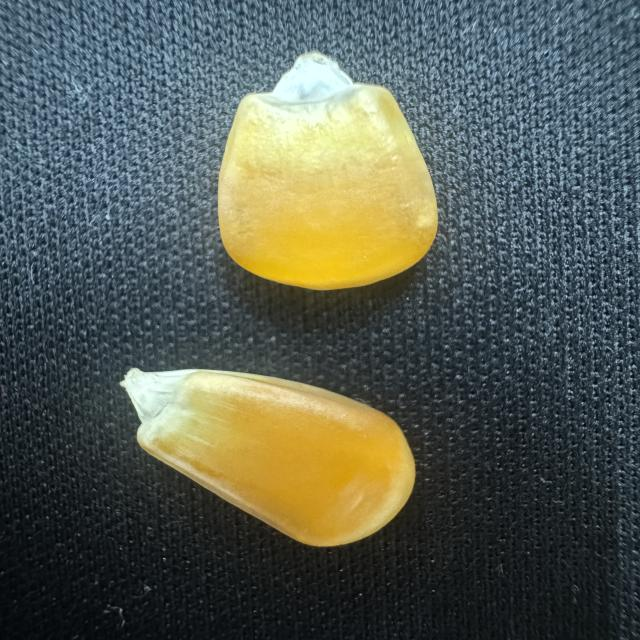Good-Seed: (212, 46, 444, 295), (115, 363, 422, 550)
